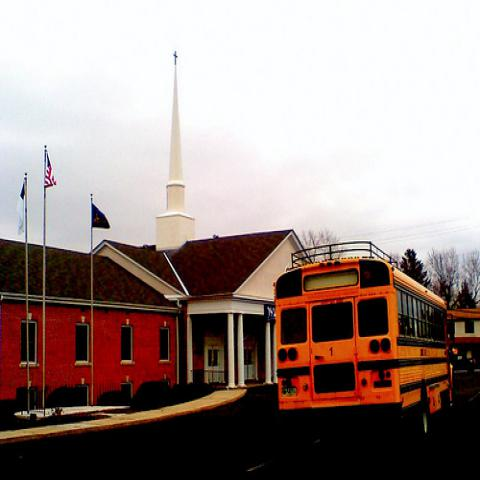bus: (274, 241, 452, 446)
car: (449, 347, 476, 375)
